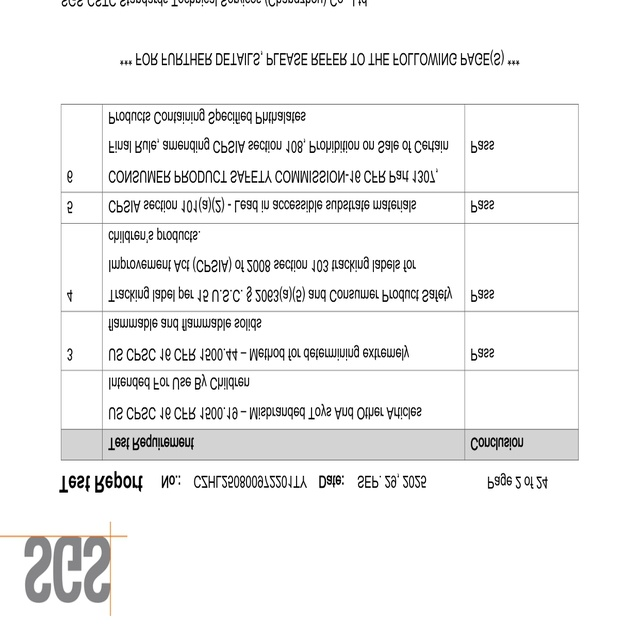sgs: (23, 536, 112, 603)
